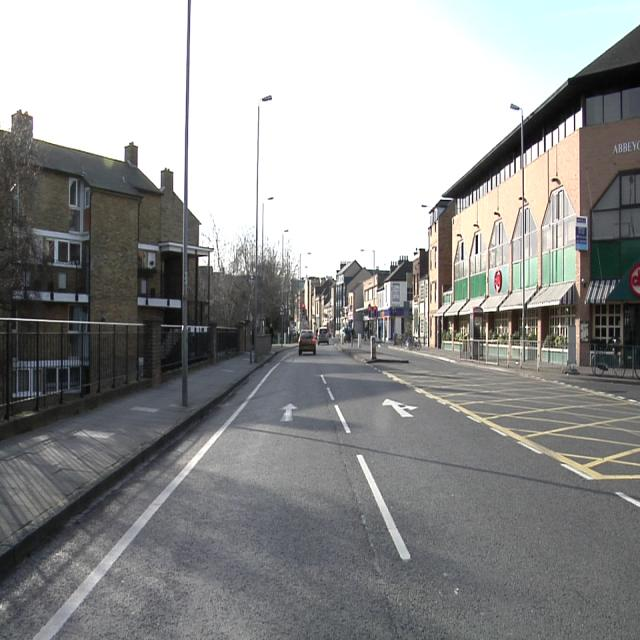Building: (428, 26, 638, 370), (0, 111, 184, 319), (335, 257, 412, 342), (209, 214, 254, 326), (188, 211, 207, 322), (300, 276, 334, 334)
Car: (299, 331, 315, 354), (318, 328, 329, 344)
Road: (2, 344, 639, 624)
Tree: (0, 112, 39, 314), (210, 221, 255, 326), (258, 232, 298, 330)
